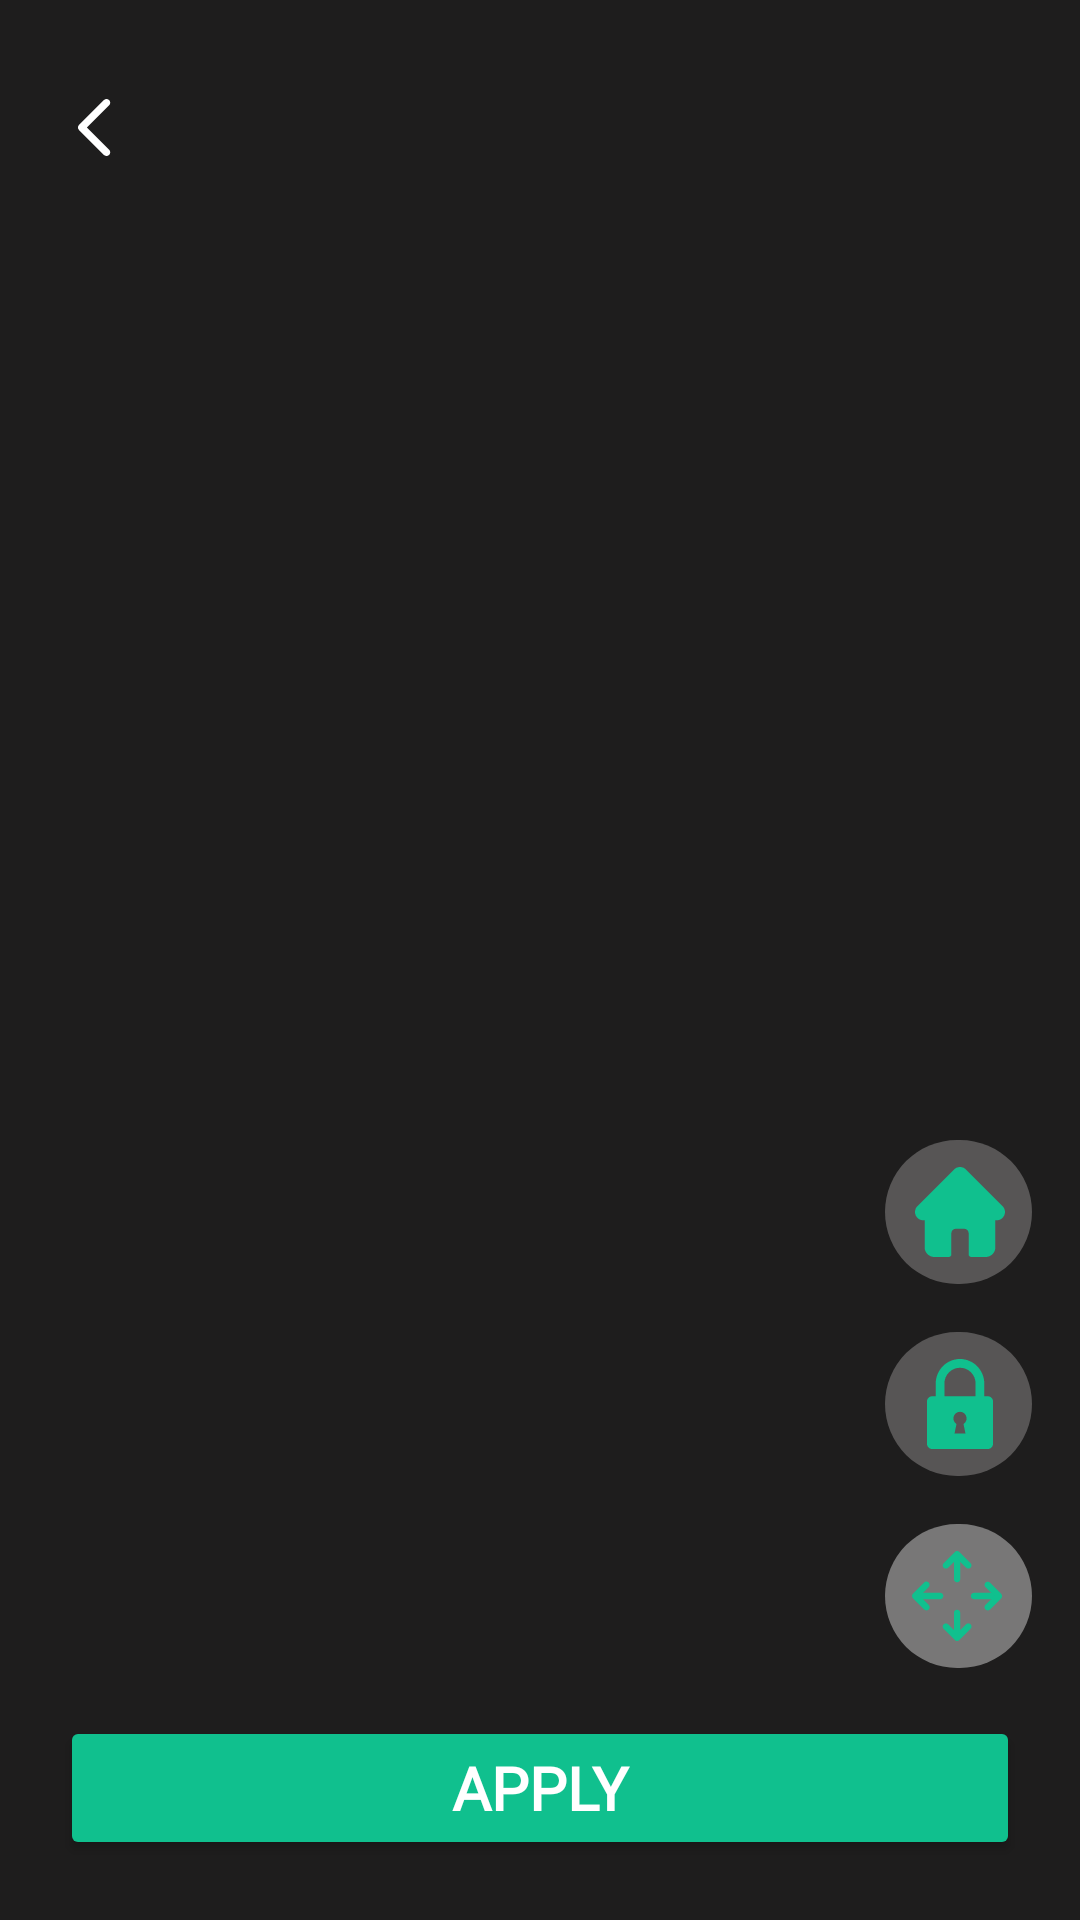

Icons on this 1080 x 1920 Android screen, each with the point to tap as (x=x, y=y):
Back: (x=94, y=127)
fit: (x=958, y=1596)
home: (x=958, y=1212)
lock: (x=958, y=1404)
